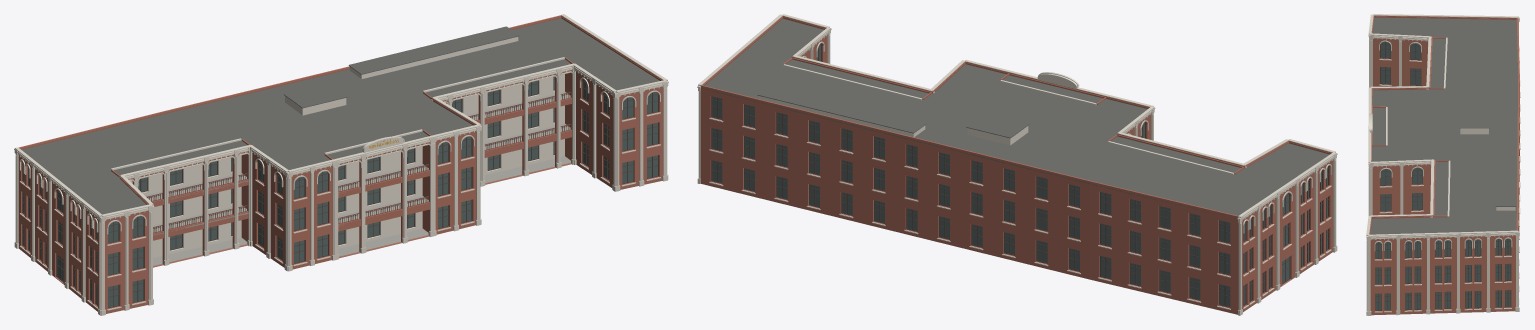
The model's file is huangpu-sino-french-school-teaching-building-web.glb.
3 views of the same model, side by side, from view 1: azimuth 30°, elevation 25°; view 2: azimuth 150°, elevation 25°; view 3: azimuth 270°, elevation 25° (orthographic). The views are drawn at different scales.
Visible parts, largest first — view 1: 光明中学教学楼（原中法学堂）; view 2: 光明中学教学楼（原中法学堂）; view 3: 光明中学教学楼（原中法学堂）.
Boxes of the visible parts, <box> form: 光明中学教学楼（原中法学堂）: <box>14,14,668,315</box>; 光明中学教学楼（原中法学堂）: <box>697,14,1337,315</box>; 光明中学教学楼（原中法学堂）: <box>1366,14,1520,315</box>.
Size of the model in its own units: 85.53 by 15.77 by 25.17.
